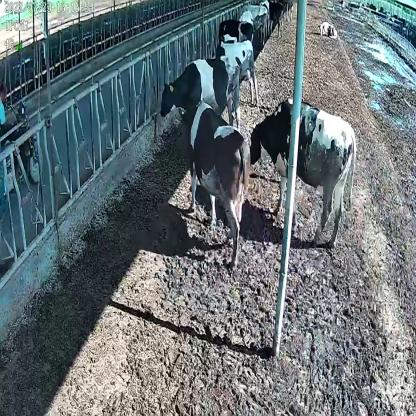cow: (248, 96, 358, 250), (179, 100, 249, 271), (160, 54, 242, 138), (319, 22, 339, 42)
